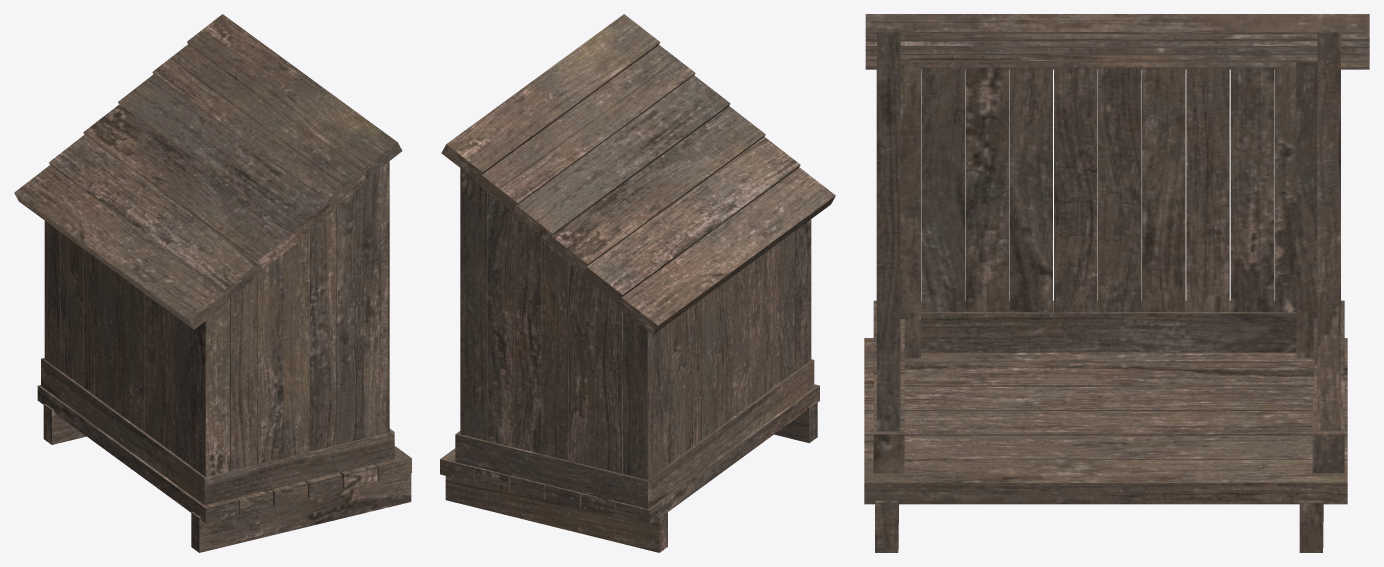
The model's file is hut_joined.glb.
3 renders of one model, left to right at view 1: azimuth 30°, elevation 25°; view 2: azimuth 150°, elevation 25°; view 3: azimuth 270°, elevation 25°, orthographic. The views are drawn at different scales.
Parts seen in each view (by area): view 1: dock-col.001; view 2: dock-col.001; view 3: dock-col.001.
Part boxes in pixels (x1=…): dock-col.001: x1=14, y1=14, x2=411, y2=552; dock-col.001: x1=440, y1=14, x2=835, y2=552; dock-col.001: x1=864, y1=14, x2=1369, y2=552.
Size of the model in its own units: 3.76 by 5.83 by 5.07.
Materials: 1 (1 with a texture image).
